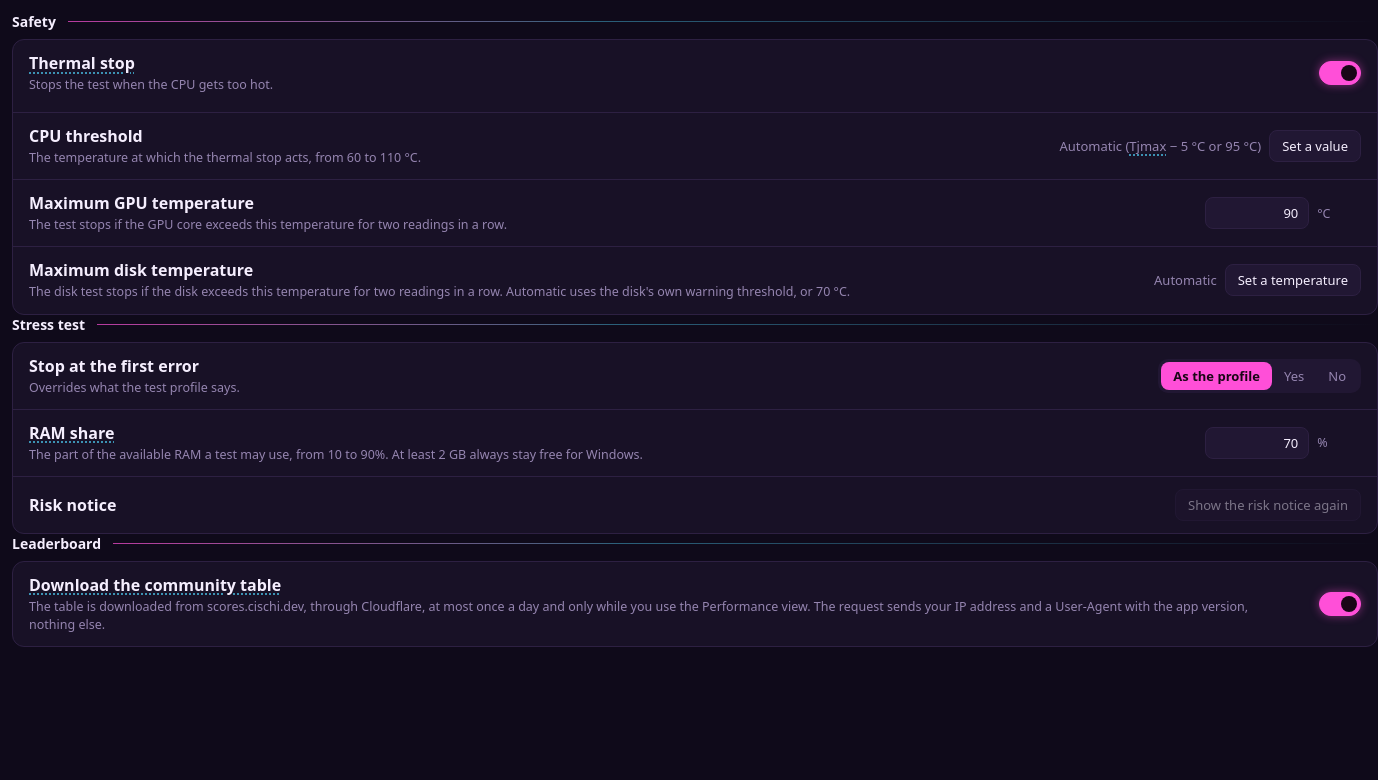
Test: escape_cancels_the_thermal_confirmation
Click the 1st switch named "Thermal stop" at (1340, 73), box [1319,61,1361,85]
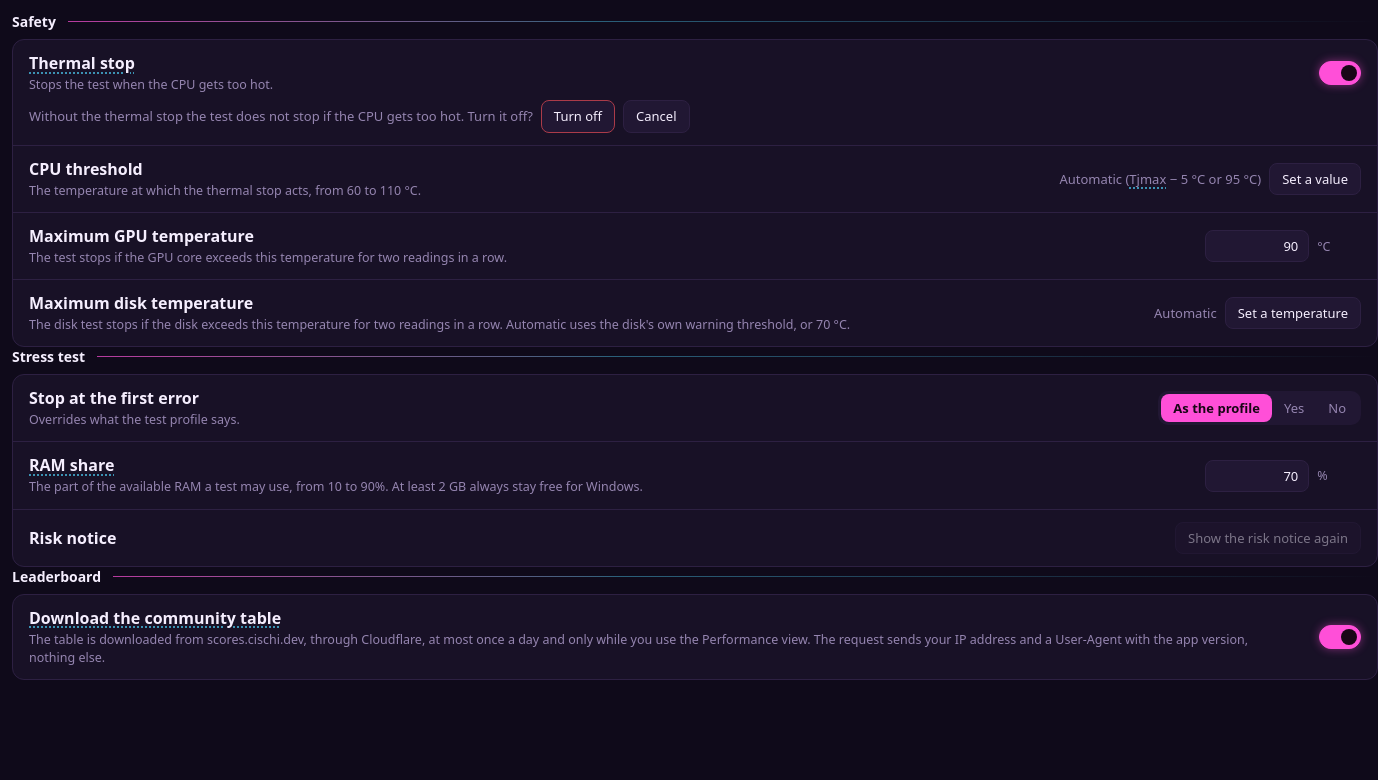
Press Escape in the text "Without the thermal stop the test does not stop if the CPU gets too hot. Turn it off?", box [29,107,533,126]
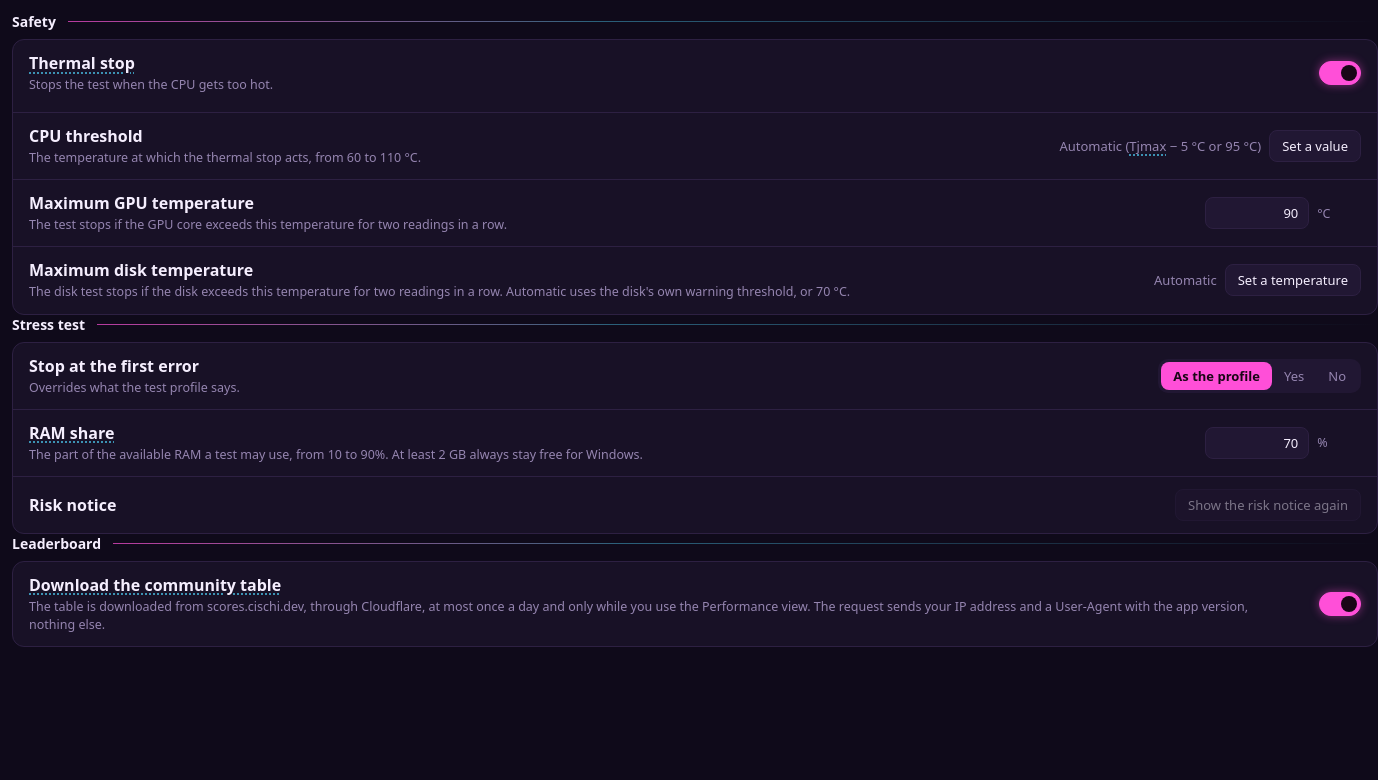
Expected: the text "Without the thermal stop the test does not stop if the CPU gets too hot. Turn it off?" is gone
